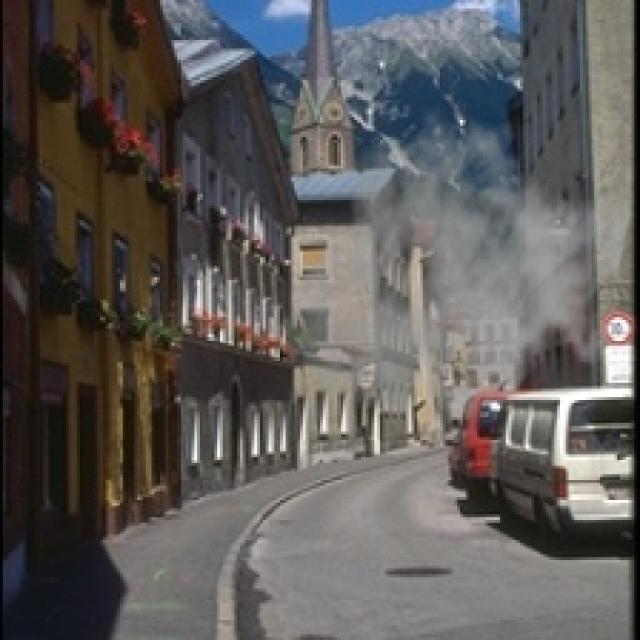Smoke: (282, 103, 634, 460)
